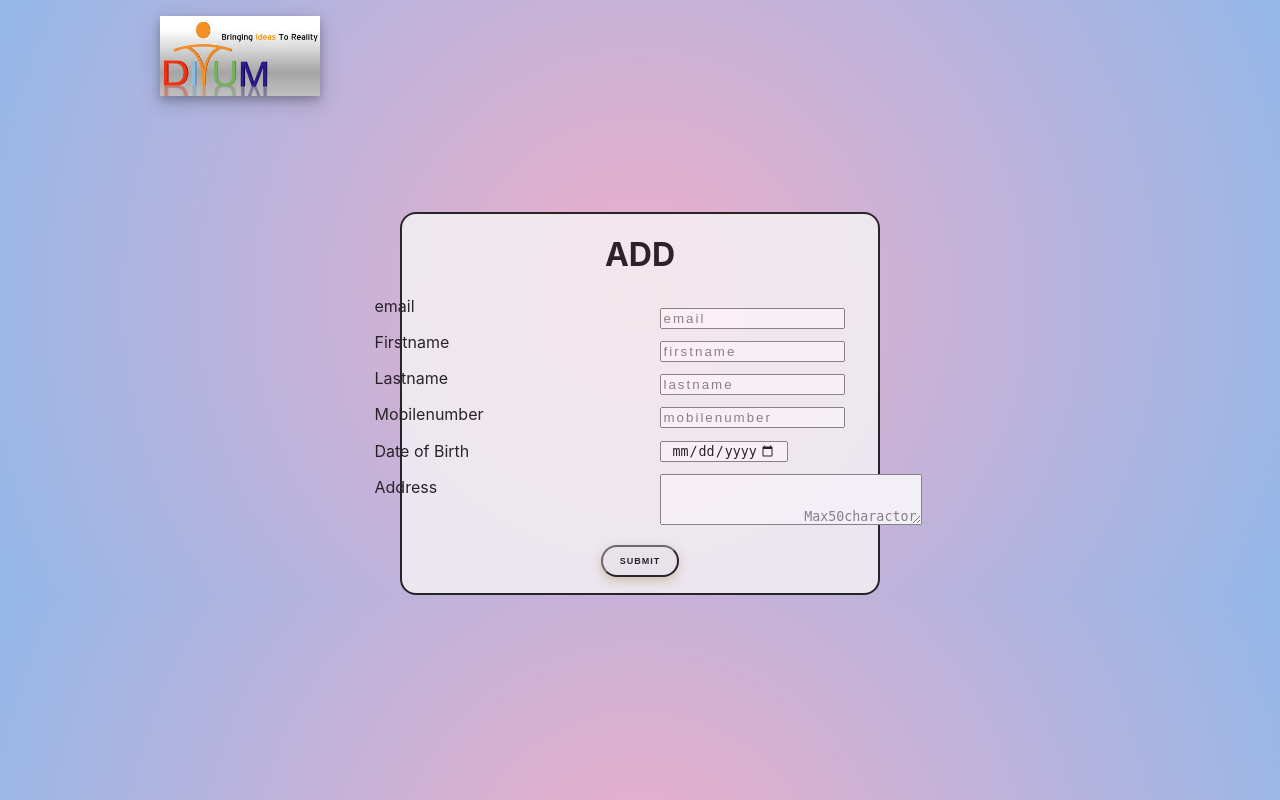
Test case: add lastnamechecking test1
The image size is (1280, 800).
Type "12" into the field with placeholder "lastname".
click(752, 384); type("12")  # box left=660, top=374, right=844, bottom=395
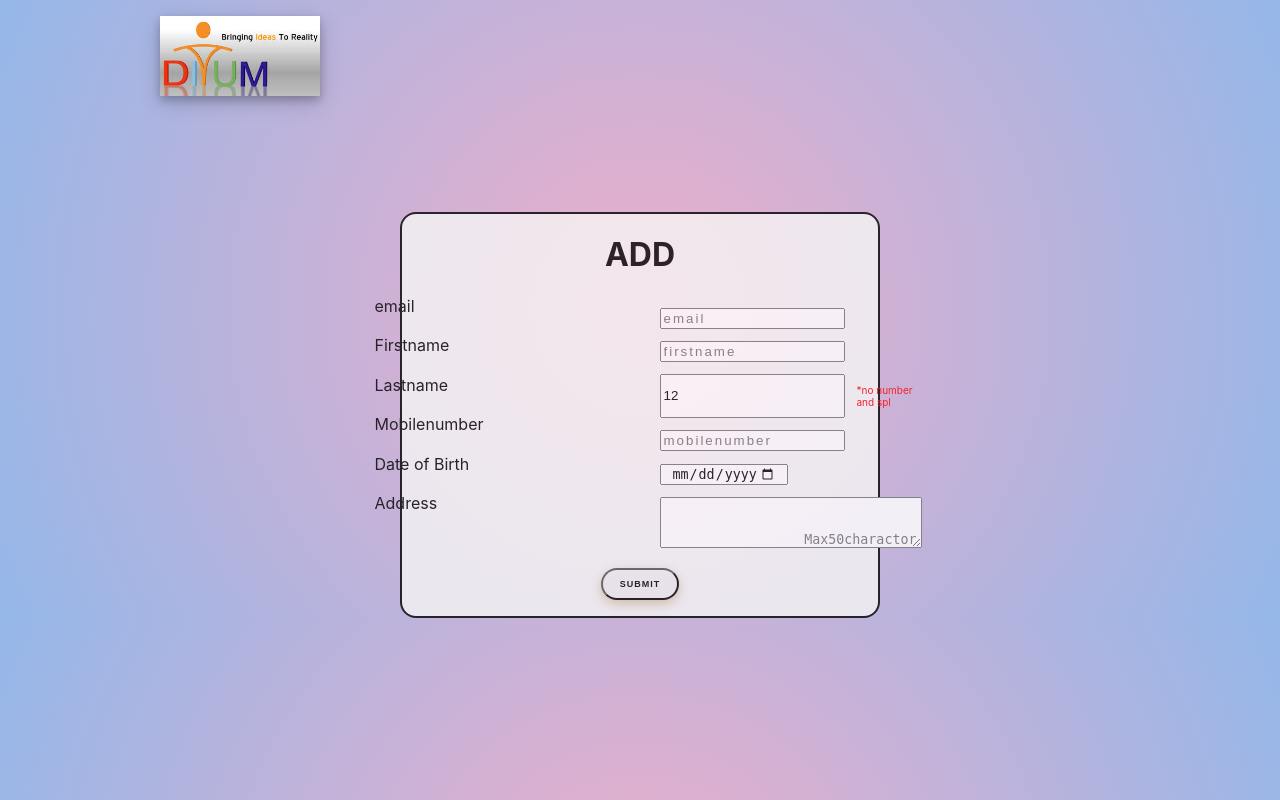
Check: the text "*no number and spl" is shown, box left=856, top=384, right=922, bottom=408
